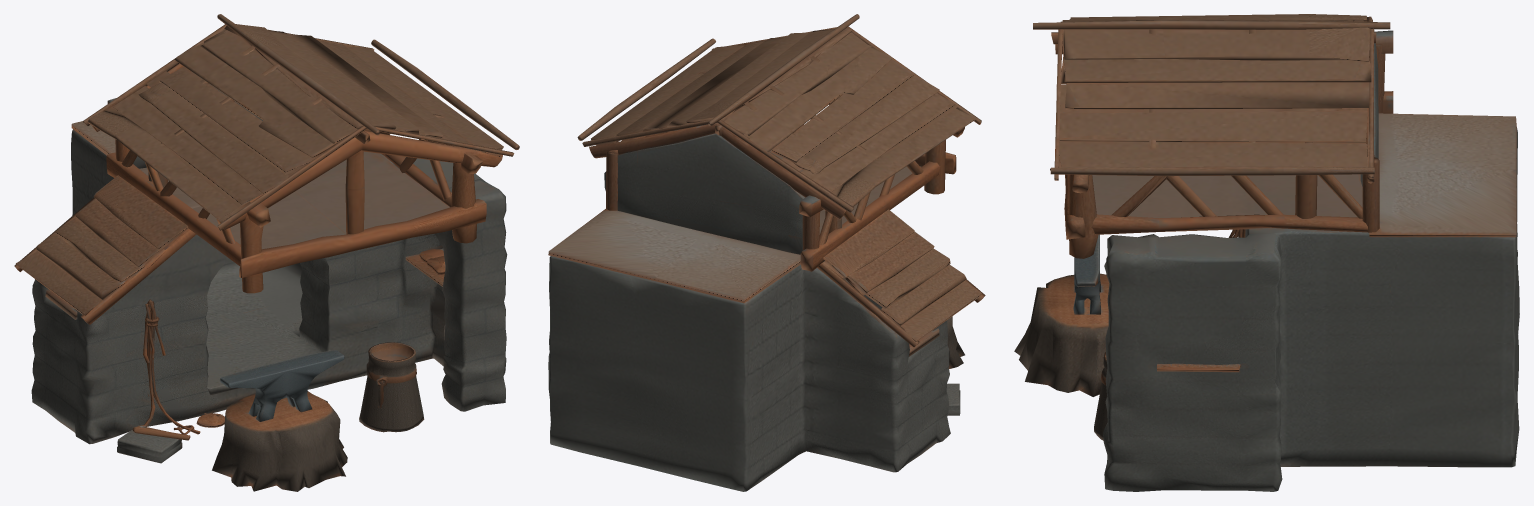
File: demirhane.glb
3 renders of one model, left to right at view 1: azimuth 30°, elevation 25°; view 2: azimuth 150°, elevation 25°; view 3: azimuth 270°, elevation 25°, orthographic. The views are drawn at different scales.
Size of the model in its own units: 0.9531 by 0.7979 by 0.9575.
Materials: 1 (1 with a texture image).
